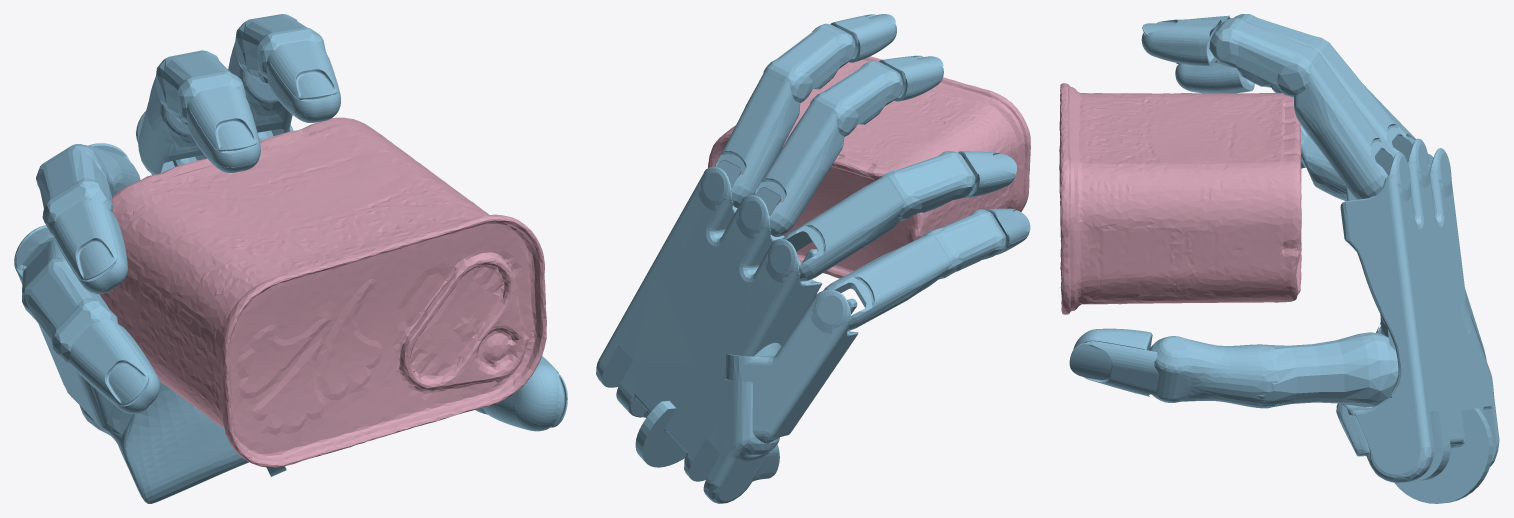
The picture shows the model from 3 angles, left to right: view 1: azimuth 30°, elevation 25°; view 2: azimuth 150°, elevation 25°; view 3: azimuth 270°, elevation 25°; orthographic projection. The views are drawn at different scales.
Parts seen in each view (by area): view 1: potted_meat_can.stl, world; view 2: world, potted_meat_can.stl; view 3: world, potted_meat_can.stl.
Part boxes in pixels (x1,y1,x2,y2): potted_meat_can.stl: (99,117,546,467); world: (14,14,567,503); world: (596,14,1030,503); potted_meat_can.stl: (708,56,1030,278); world: (1069,14,1499,503); potted_meat_can.stl: (1059,83,1301,314).
Size of the model in its own units: 0.1442 by 0.1713 by 0.1518.
